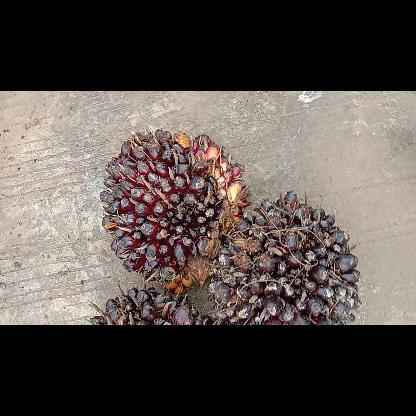TBS mentah: (98, 126, 252, 294), (207, 188, 365, 324), (85, 286, 215, 324)
